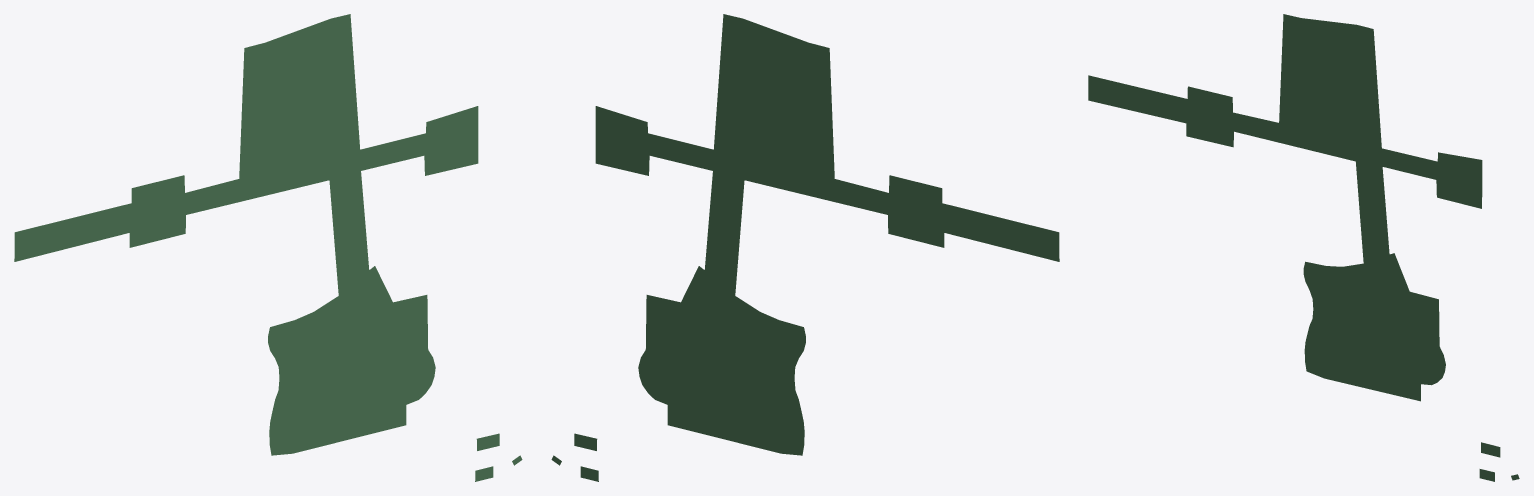
Rendered from green_areas.obj.
The picture shows the model from 3 angles, left to right: view 1: azimuth 30°, elevation 25°; view 2: azimuth 150°, elevation 25°; view 3: azimuth 330°, elevation 25°; orthographic projection. The views are drawn at different scales.
Parts seen in each view (by area): view 1: xian_mutasi_green_areas; view 2: xian_mutasi_green_areas; view 3: xian_mutasi_green_areas.
Part boxes in pixels (x1,y1,x2,y2): xian_mutasi_green_areas: (14, 14, 522, 481); xian_mutasi_green_areas: (551, 14, 1059, 481); xian_mutasi_green_areas: (1088, 14, 1519, 481).
Bounding box in the file's own units: 904 × 848 × 0.
